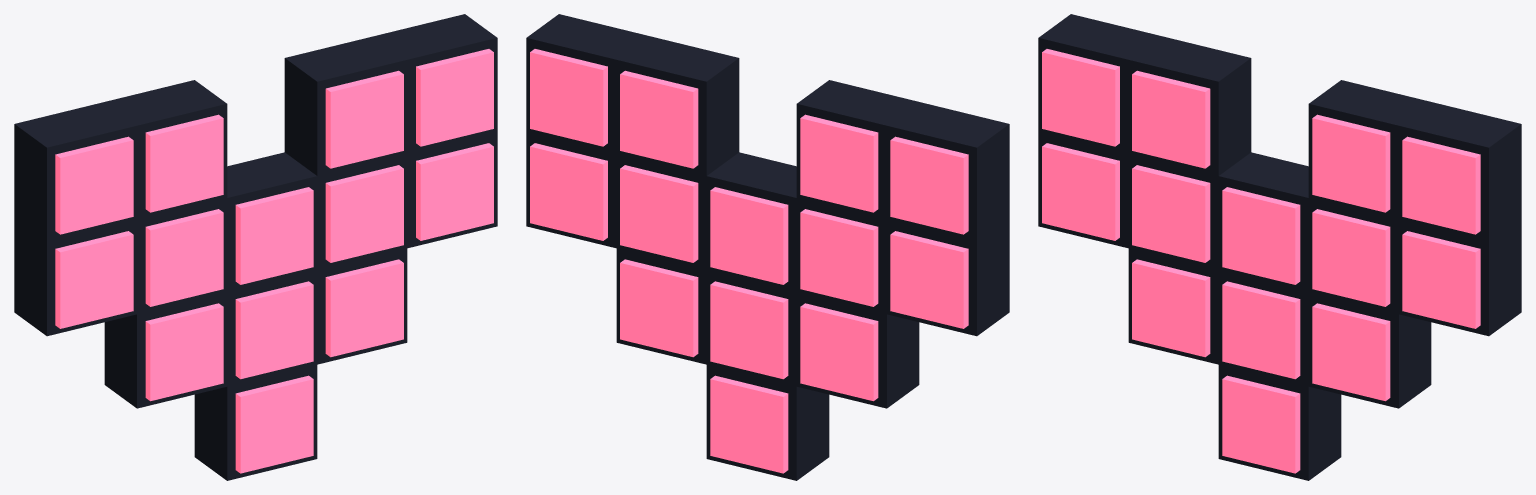
The picture shows the model from 3 angles, left to right: view 1: azimuth 30°, elevation 25°; view 2: azimuth 150°, elevation 25°; view 3: azimuth 330°, elevation 25°; orthographic projection.
Parts seen in each view (by area): view 1: pixel_sprite_heart.lod1; view 2: pixel_sprite_heart.lod1; view 3: pixel_sprite_heart.lod1.
Boxes of the visible parts, bbox=[...] form: pixel_sprite_heart.lod1: bbox=[14, 14, 497, 480]; pixel_sprite_heart.lod1: bbox=[526, 14, 1009, 480]; pixel_sprite_heart.lod1: bbox=[1038, 14, 1521, 480].
Bounding box in the file's own units: 0.8 × 0.64 × 0.13.
